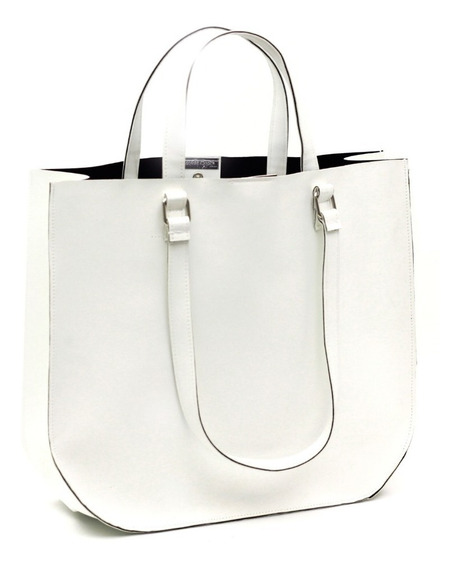cartera: (31, 24, 418, 537)
